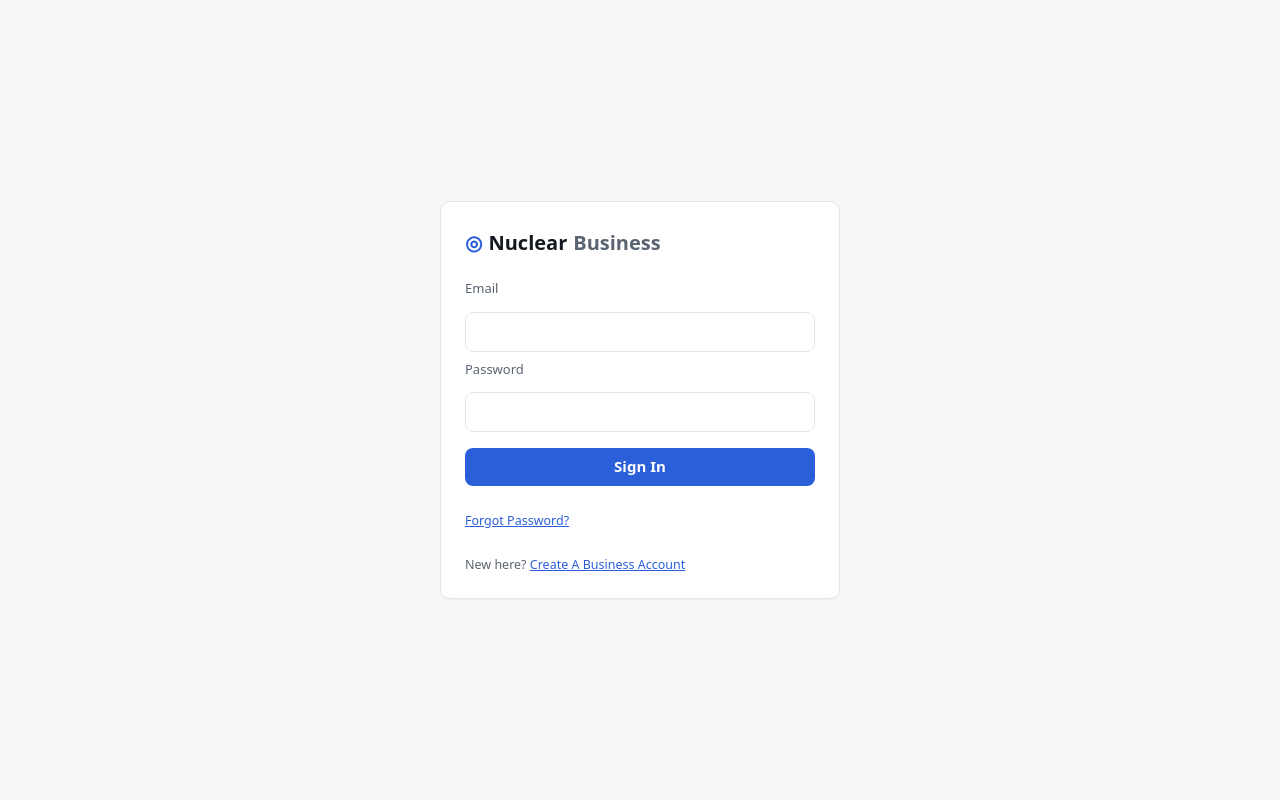
it: catalog › products load a page at a time: the count, Load More, and a filter that asks the server
Type "Cafe@Example.com" into the field labelled "Email".
click(640, 332); type("Cafe@Example.com")  # box [465,312,815,352]
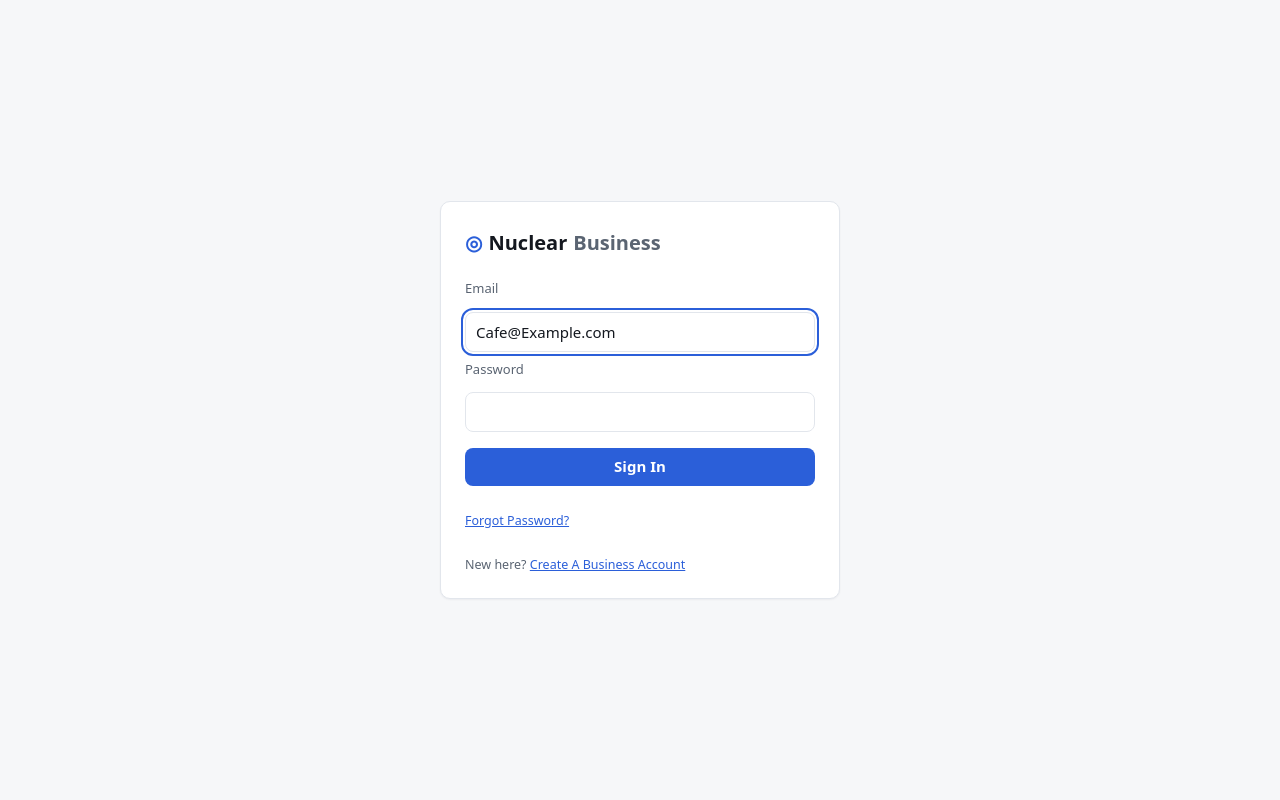
Type "correct horse battery" into the password field labelled "Password".
click(640, 412); type("correct horse battery")  # box [465,392,815,432]
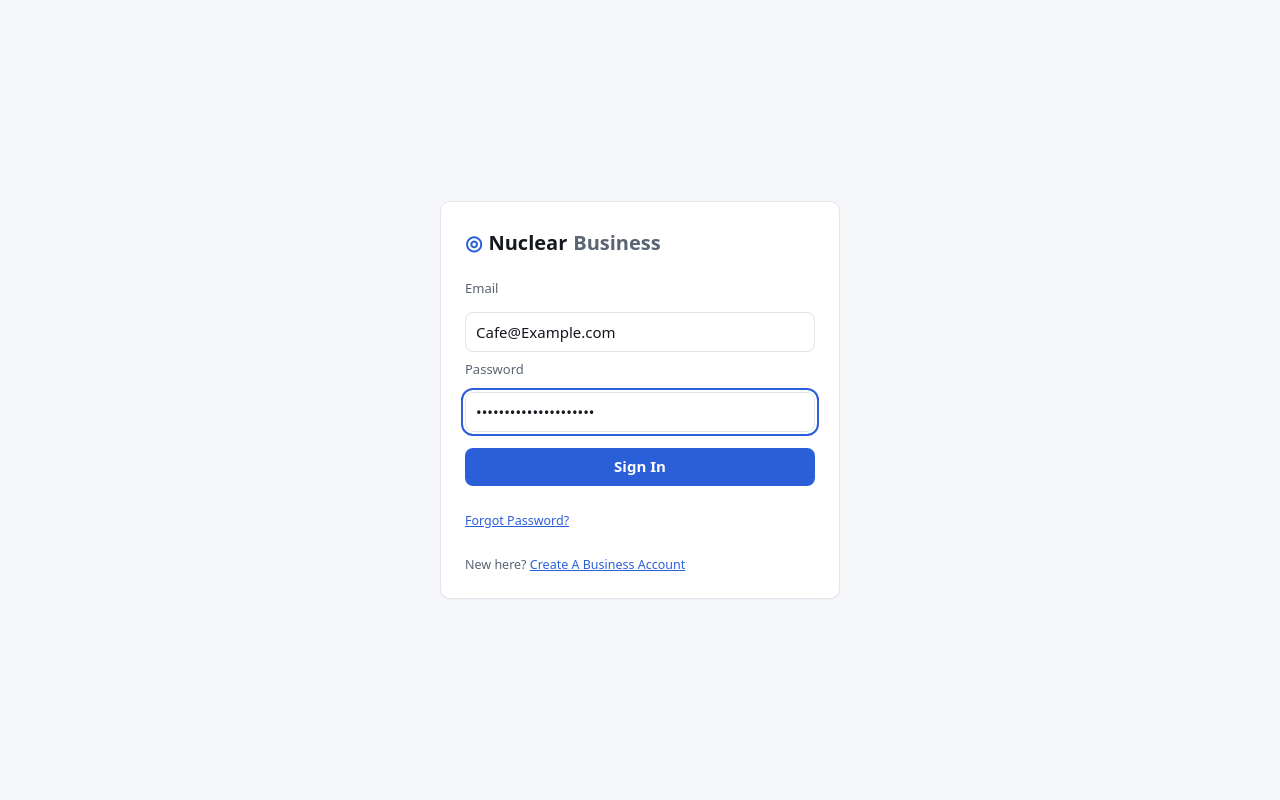
Click the button "Sign In".
click(640, 467)  # box [465,448,815,486]
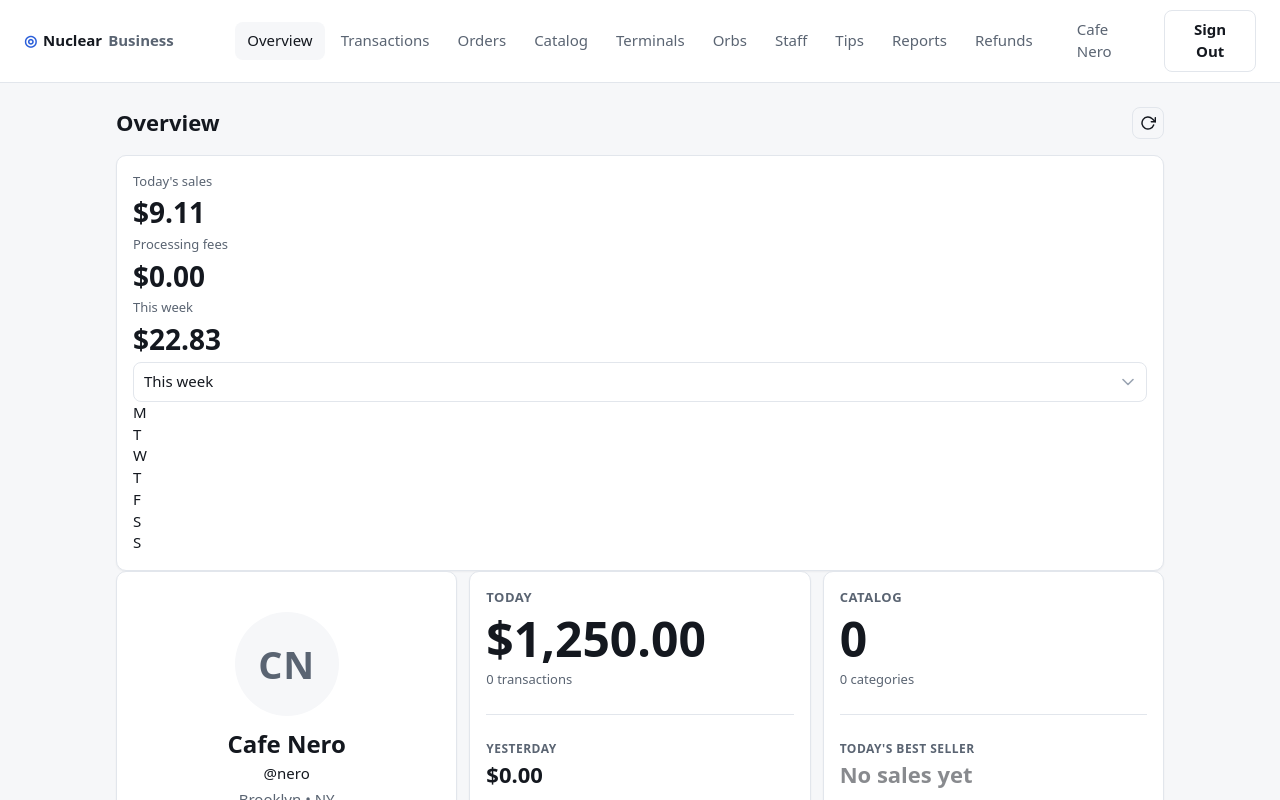
Click the link "Catalog" in the row of "Orbs".
click(561, 40)  # box [534,30,588,50]
(page scrolled)
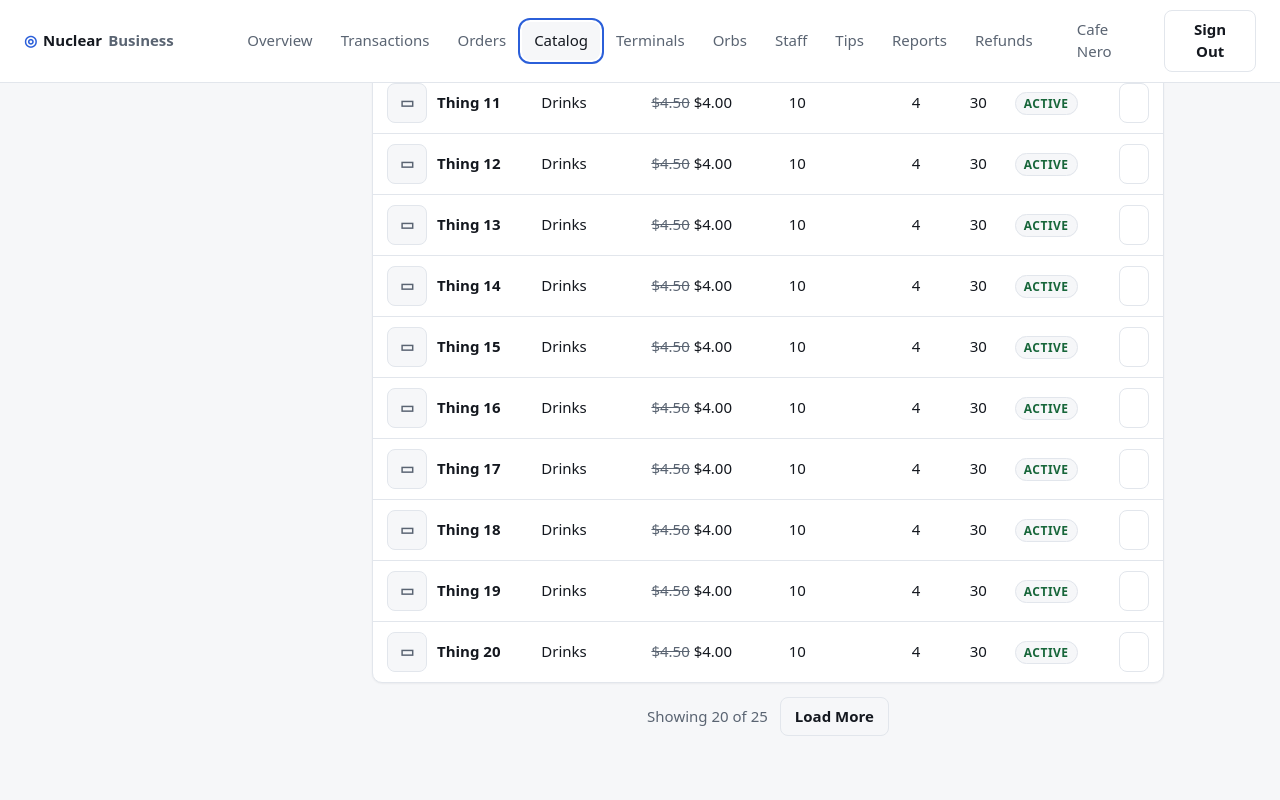
Expected: the text "Showing 20 of 25" is shown, [647,706,768,726]
Click the button "Load More".
click(834, 716)  # box [780,697,889,736]
(page scrolled)
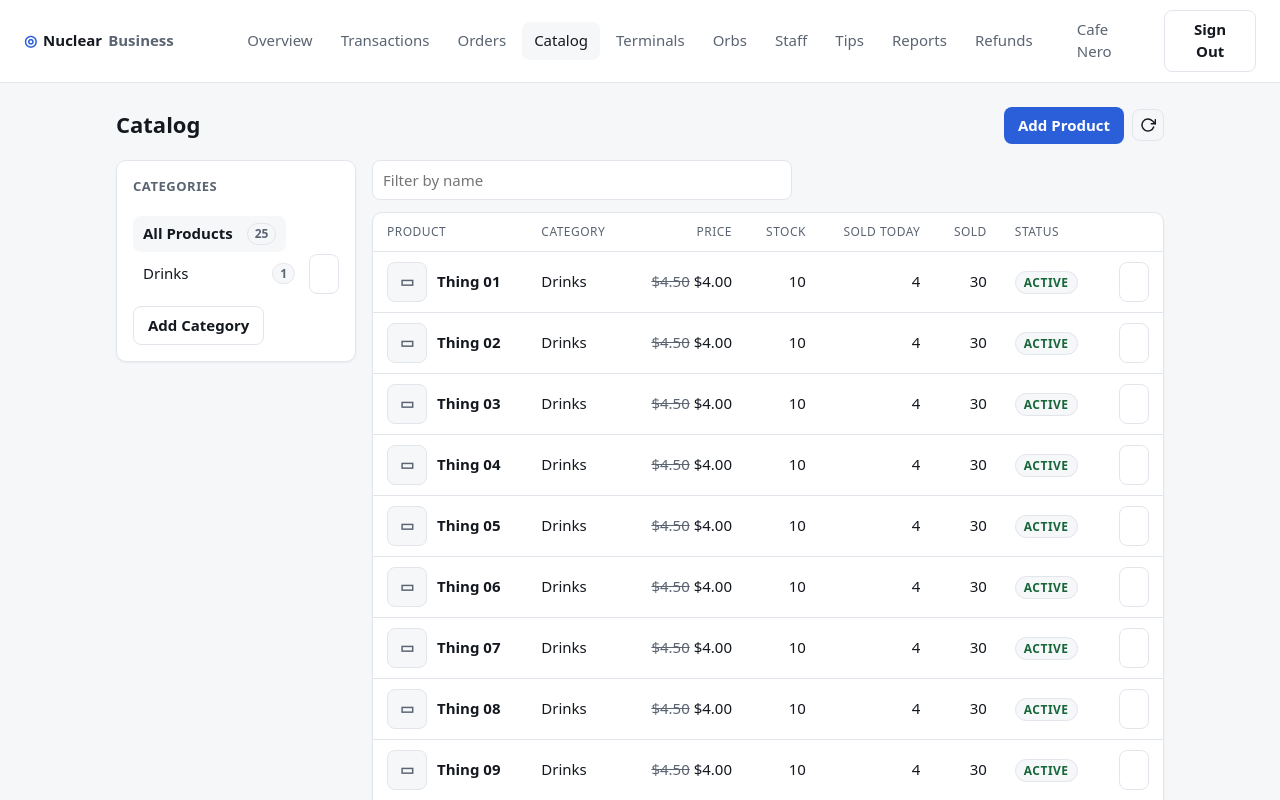
Type "xyz" into the search field named "Filter products by name".
click(582, 180); type("xyz")  # box [372,160,792,200]
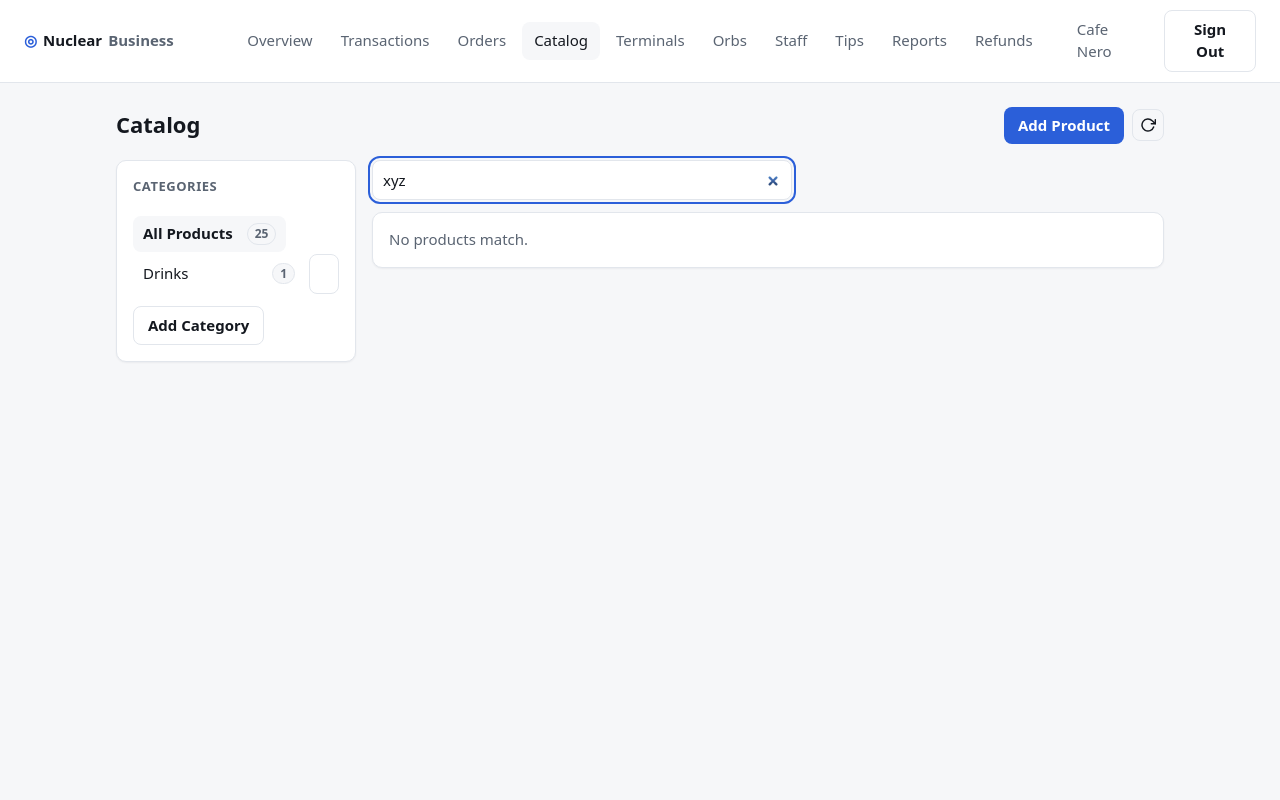
Expected: the text "No products match." is shown, [389,229,528,249]
